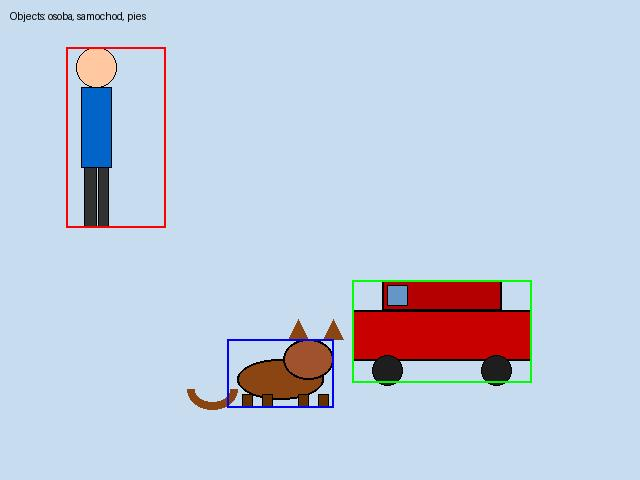osoba: (66, 47, 165, 227)
pies: (227, 339, 333, 407)
samochod: (352, 280, 531, 382)
